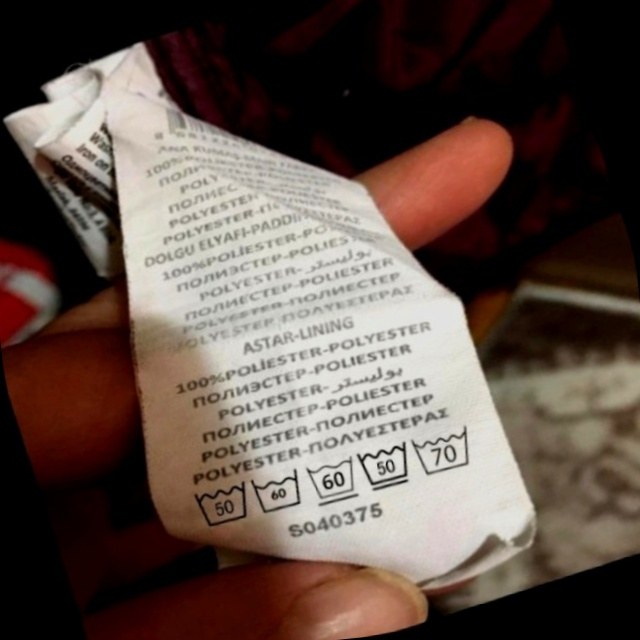50C: (183, 468, 262, 539), (351, 432, 423, 500)
60C: (300, 446, 369, 512), (245, 460, 314, 523)
70C: (407, 417, 486, 483)
